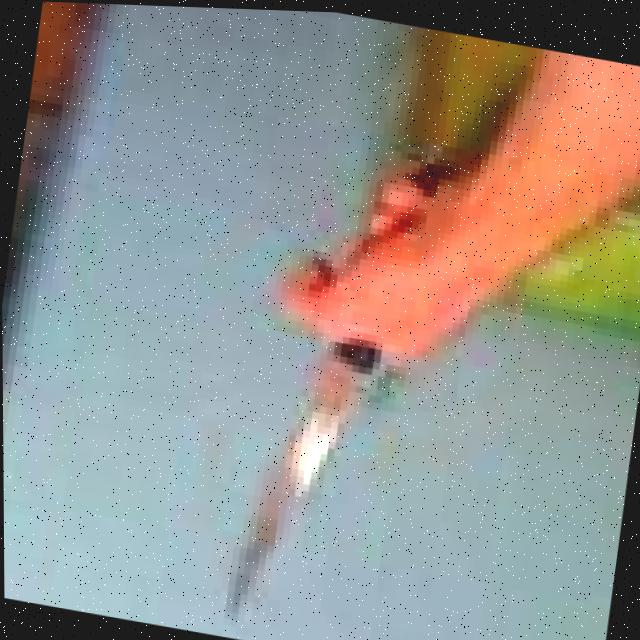knife: (216, 317, 384, 640)
